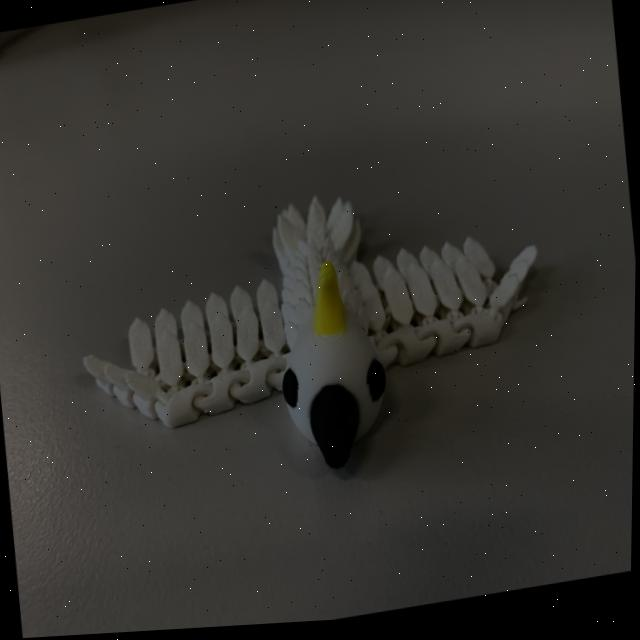cockatoo: (69, 156, 543, 502)
